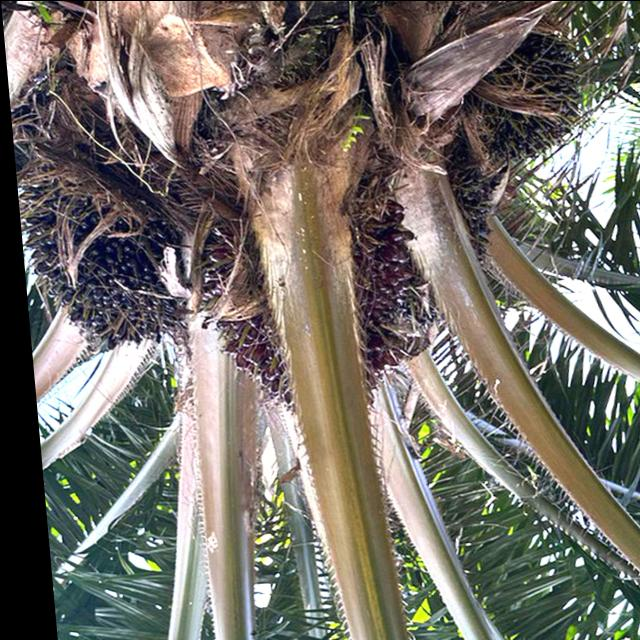ripe: (203, 189, 423, 425), (22, 186, 185, 356), (459, 28, 599, 172)
